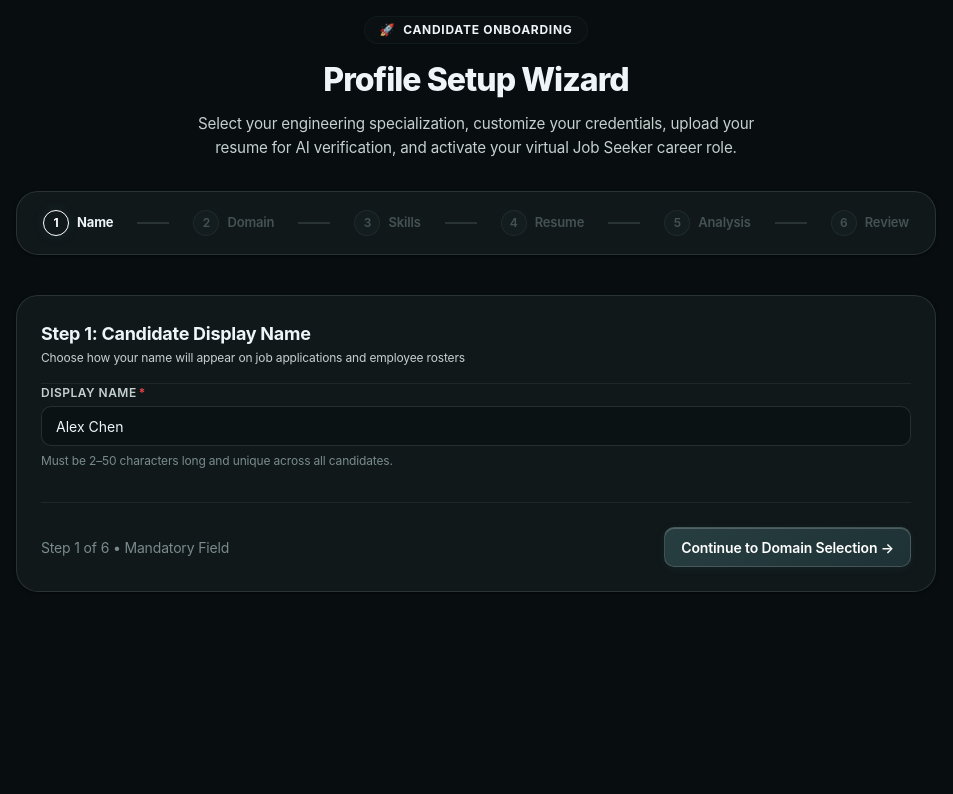
ProfileSetupPage Wizard Suite › allows adding and removing skills dynamically
// Advance to Step 3
Step 1. Replace the text in the field labelled "Display Name*" with "Elena Rostova" → (476, 426), box [41,406,911,446]
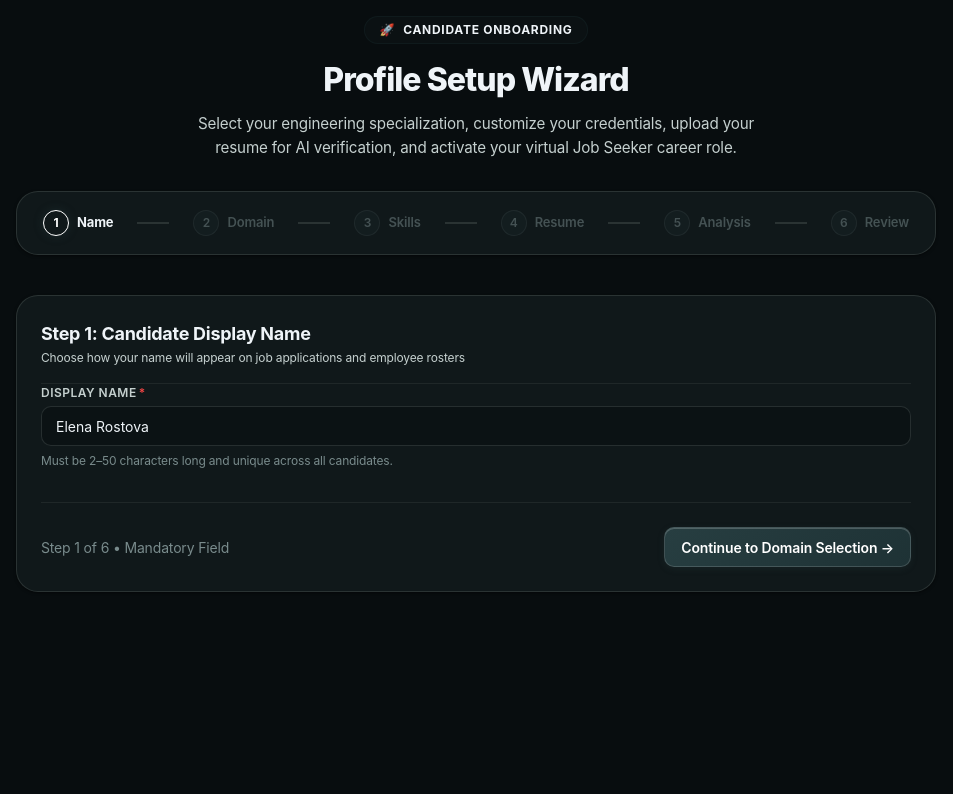
Step 2. Click the button "Continue to Domain Selection →" → (788, 547), box [664,527,911,567]
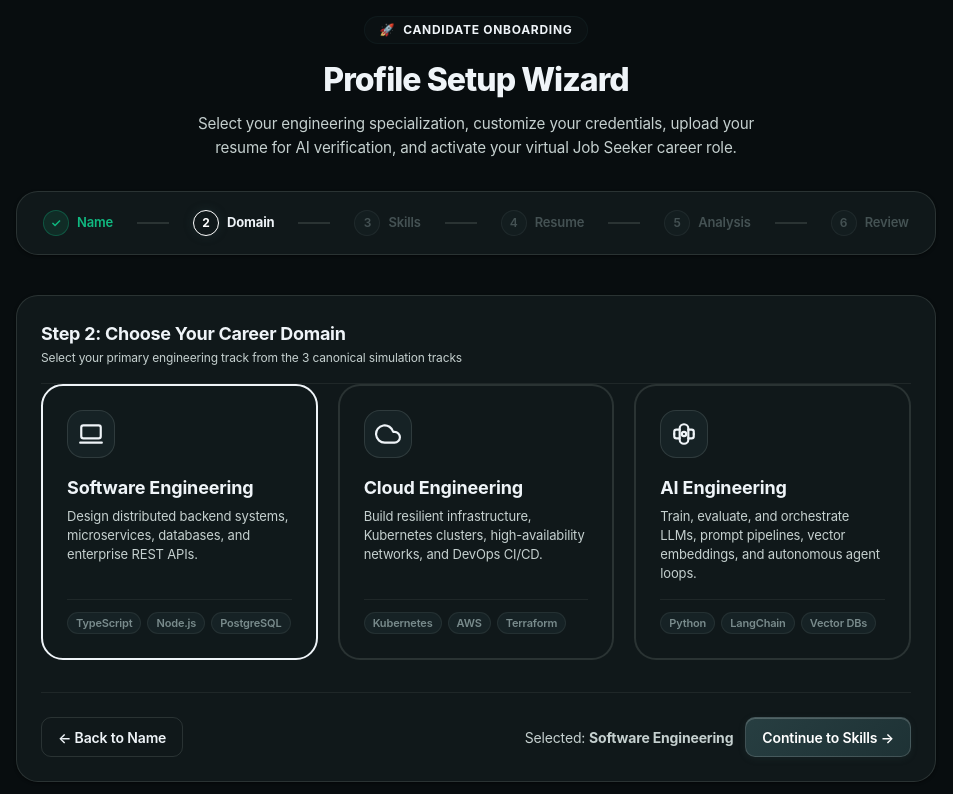
Now the button "Continue to Skills →" is shown
Step 3. Click the button "Continue to Skills →" → (828, 737), box [745,717,911,757]
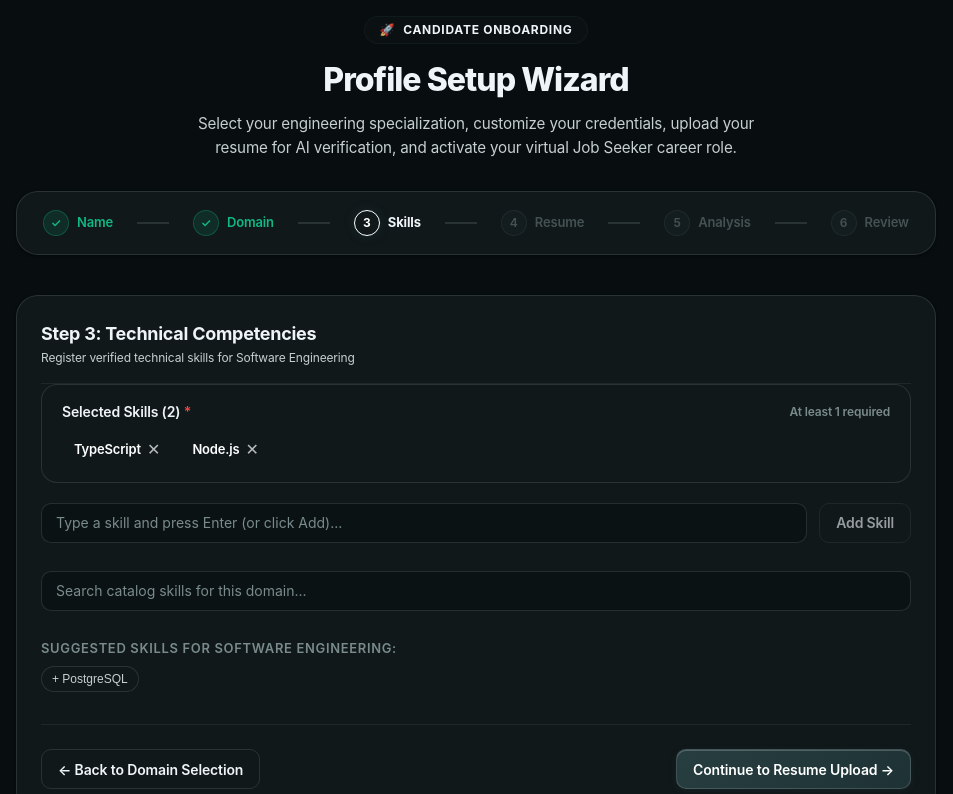
Now the field with placeholder "Type a skill and press Enter (or click Add)..." is shown
// Add custom skill
Step 4. Type "Rust" into the field with placeholder "Type a skill and press Enter (or click Add)..." → (424, 523), box [41,503,807,543]
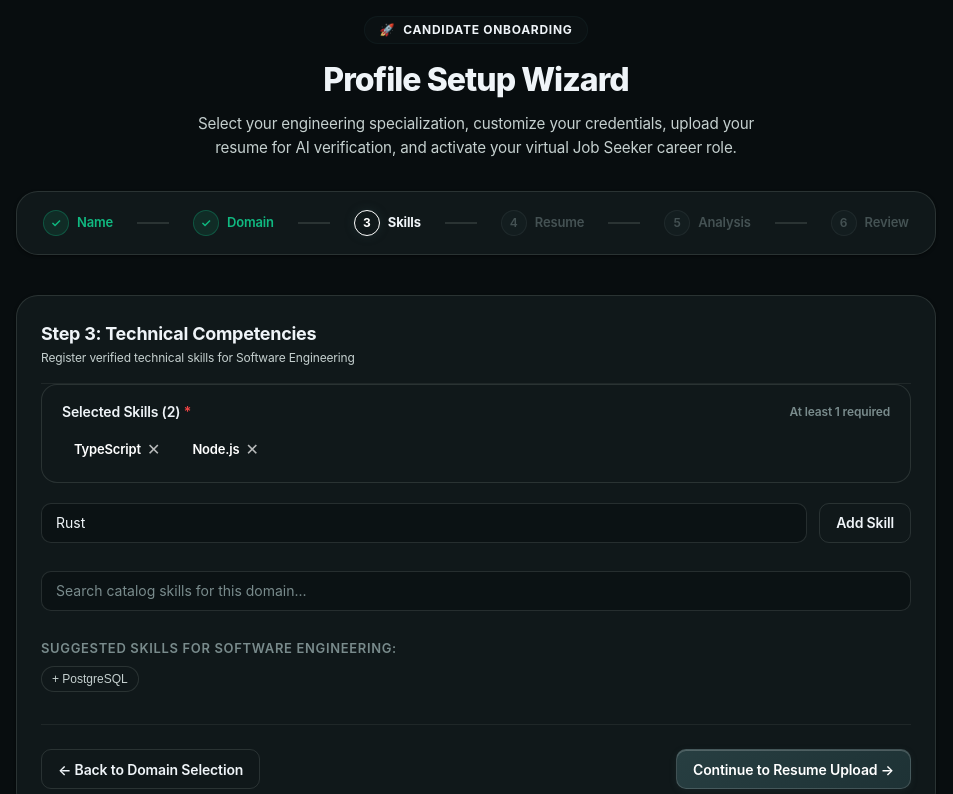
Step 5. Click the button "Add Skill" → (865, 523), box [819,503,911,543]
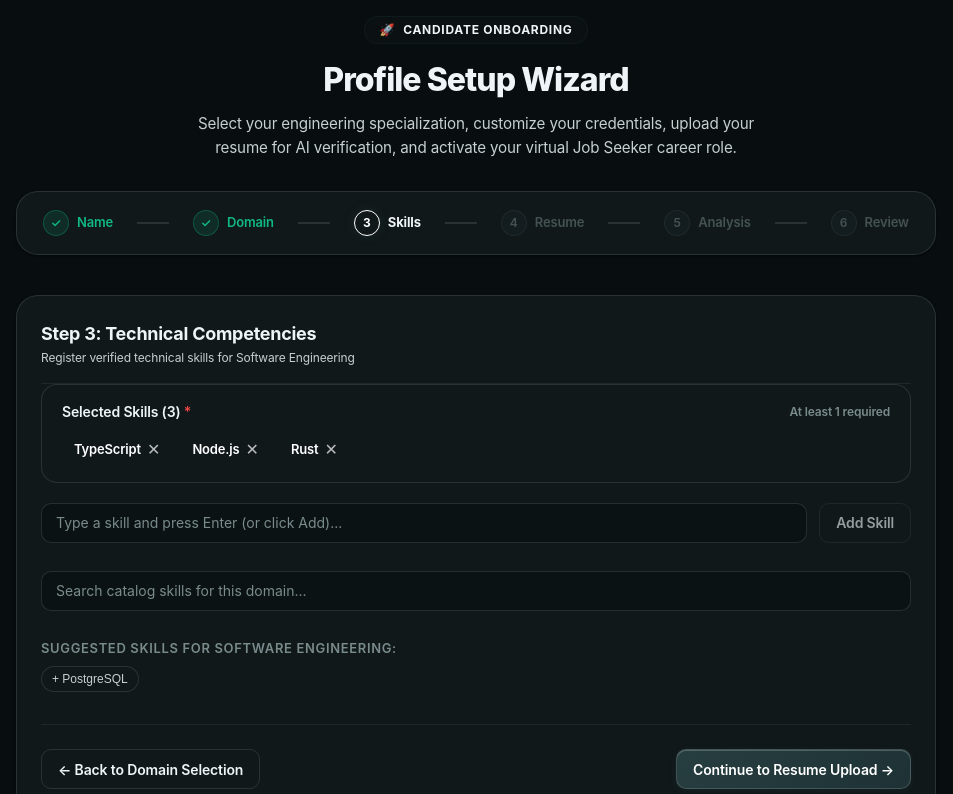
Now the text "Rust" is shown, box [291,440,318,460]
// Remove skill
Step 6. Click the button named "Remove skill Rust" → (331, 450), box [324,442,338,458]
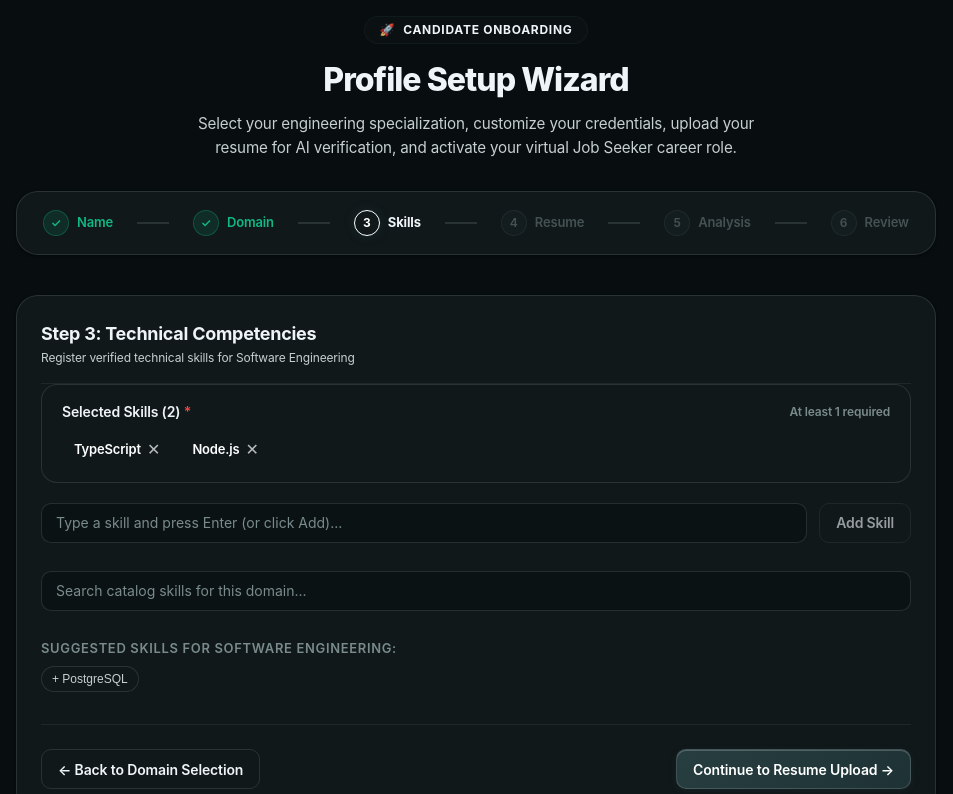
Now the text "Rust" is gone
